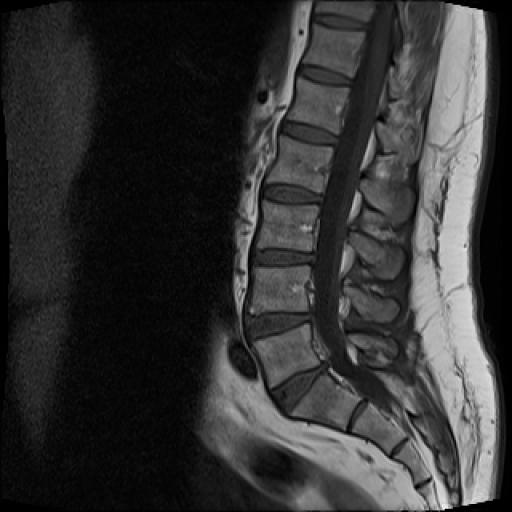L1: (286, 76, 350, 136)
L2: (266, 135, 333, 194)
L3: (257, 200, 319, 252)
L4: (250, 266, 310, 314)
L5: (252, 324, 320, 389)
S1: (291, 373, 362, 431)
